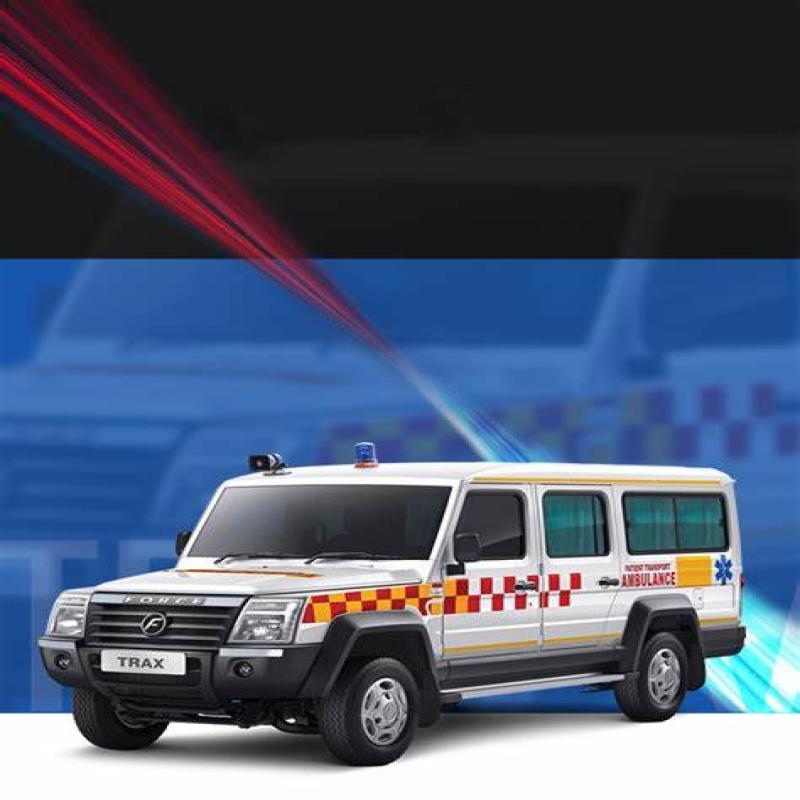AmbulanceSiren: (331, 439, 388, 476)
